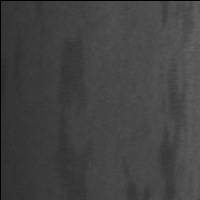inclusion: (57, 33, 96, 199), (161, 58, 188, 198), (7, 25, 28, 96), (117, 154, 141, 200), (156, 1, 173, 32)
